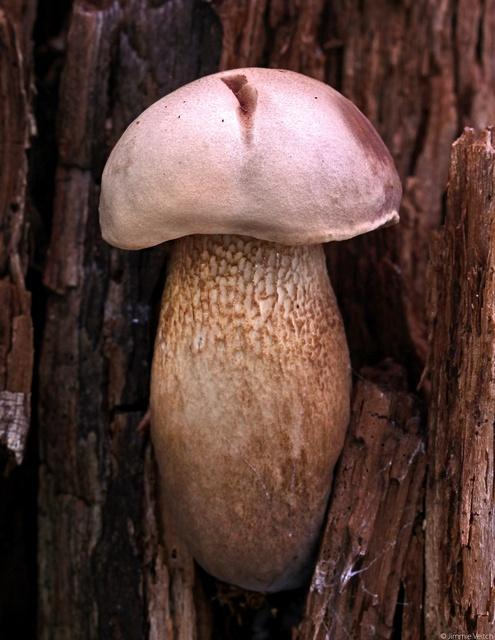poisonous_mushroom: (96, 65, 403, 594)
